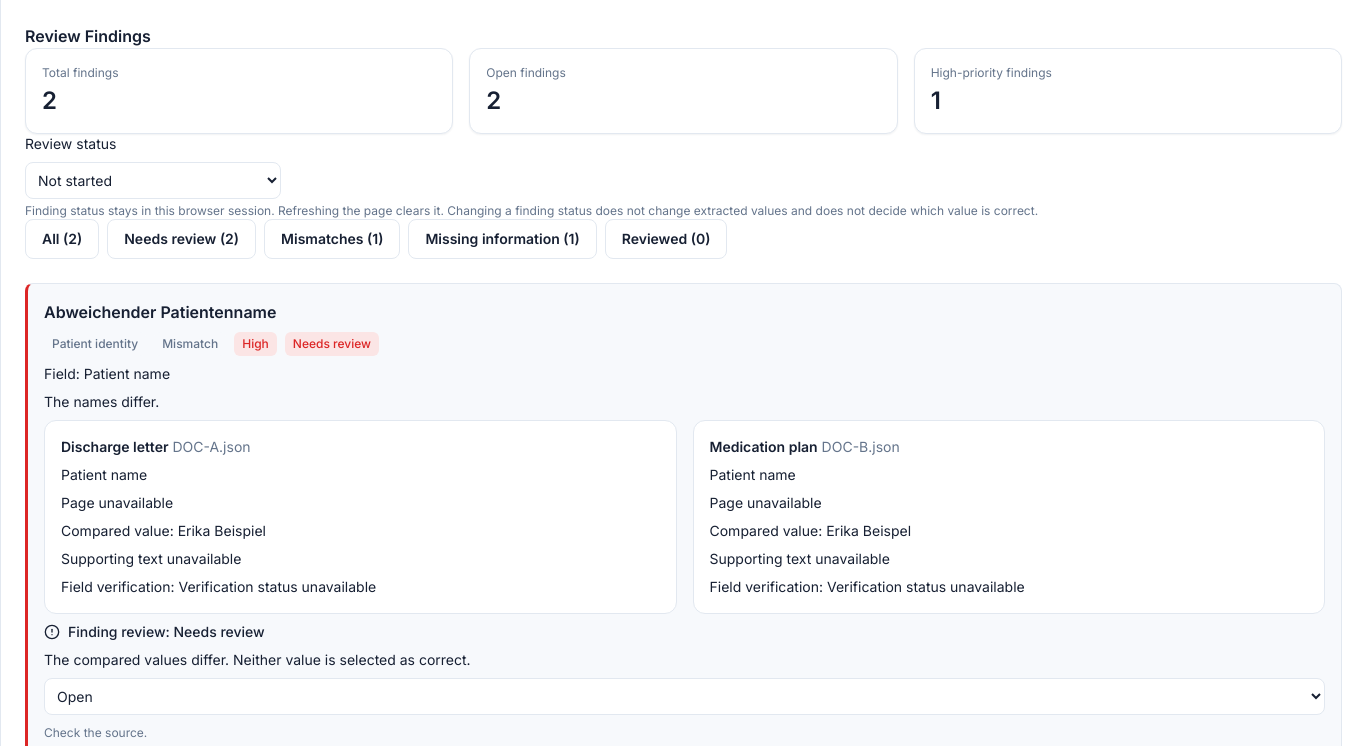
Scenario: ReviewPanel findings › filters findings and keeps counts on the full result
Expected: the button "Needs review (2)" is shown, [107,219,256,259]
Expected: the button "Mismatches (1)" is shown, [264,219,400,259]
Click the button "Missing information (1)" at (503, 239), box [408,219,597,259]
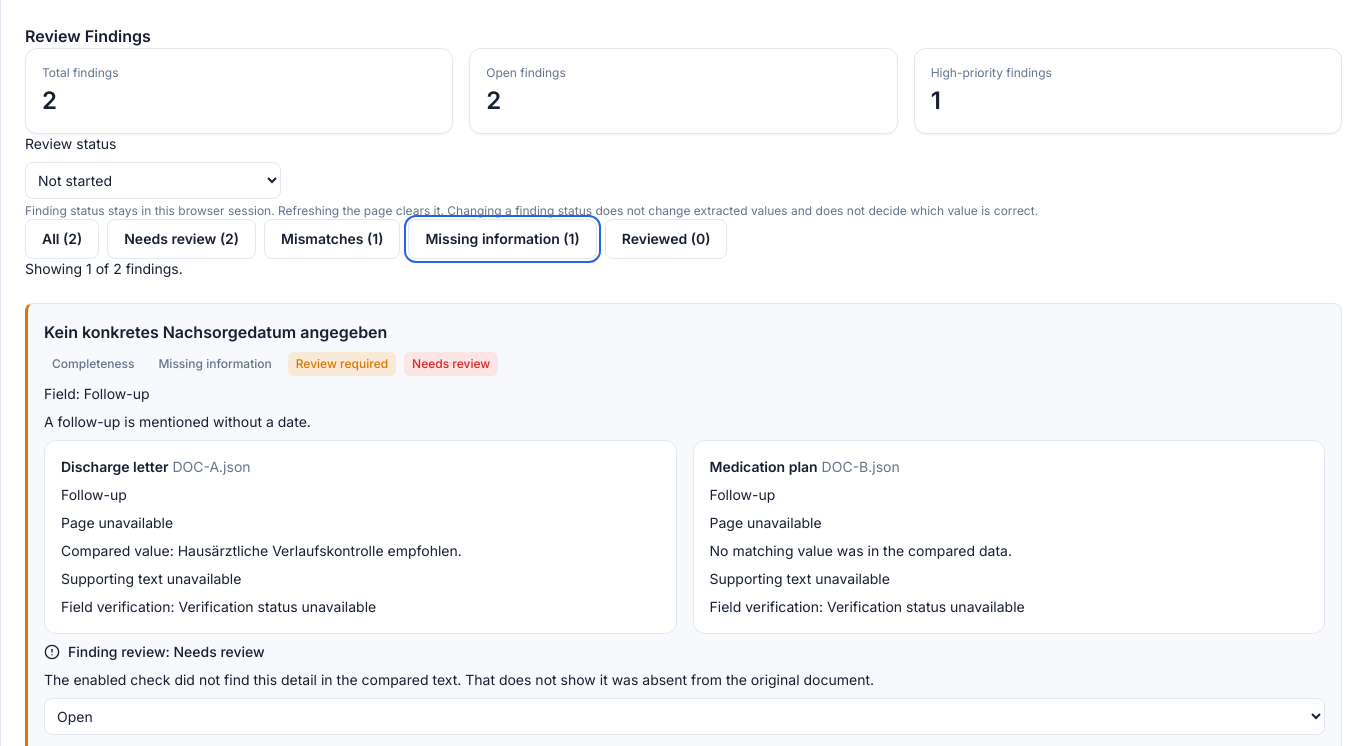
Expected: the heading "Kein konkretes Nachsorgedatum angegeben" is shown, [44,322,387,342]
Expected: the heading "Abweichender Patientenname" is gone
Expected: the text "Showing 1 of 2 findings." is shown, [25,260,183,277]
Click the button "Reviewed (0)" at (666, 239), box [605,219,727,259]
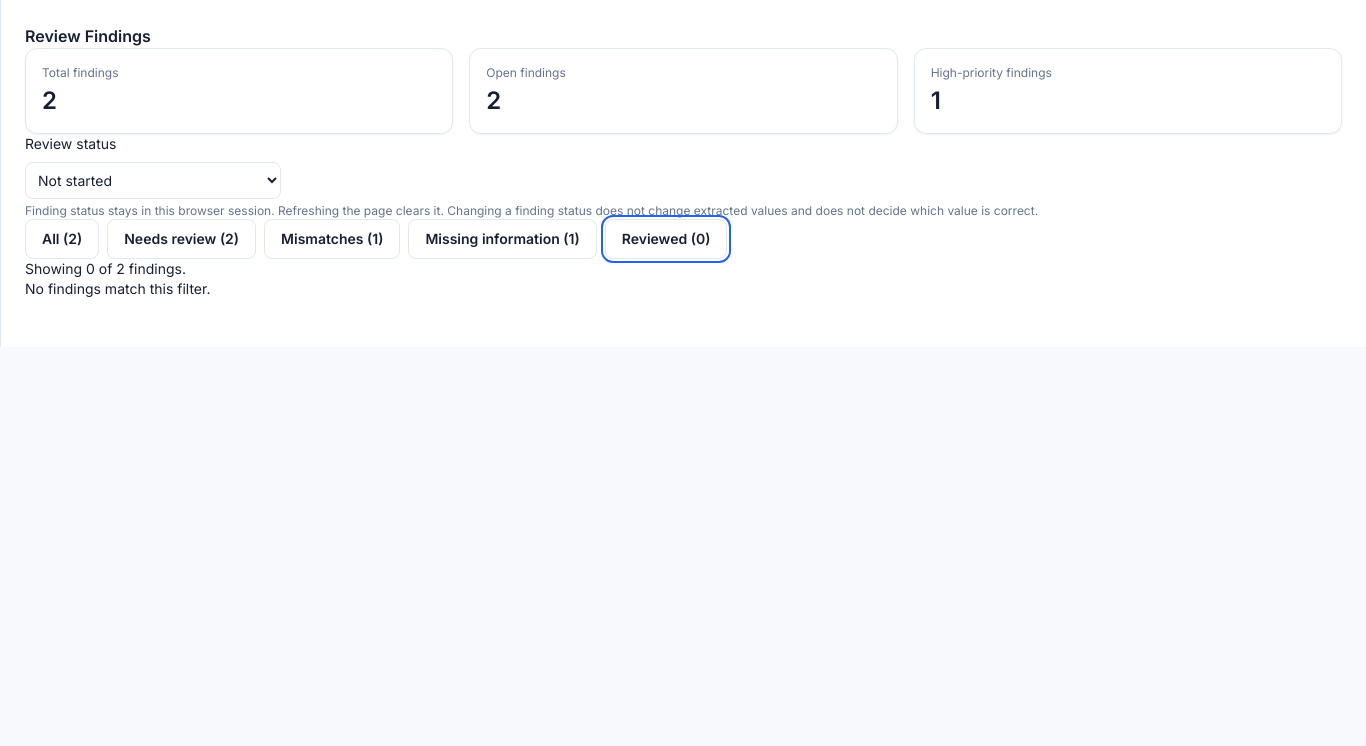
Expected: the text "No findings match this filter." is shown, [25,280,210,297]
